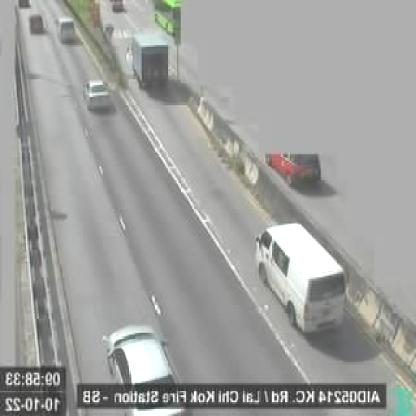Car: (257, 220, 344, 338), (100, 320, 186, 416), (83, 76, 114, 112), (57, 16, 77, 42), (29, 13, 45, 33), (111, 1, 125, 12), (18, 1, 30, 10)
Truck: (126, 31, 171, 92)
